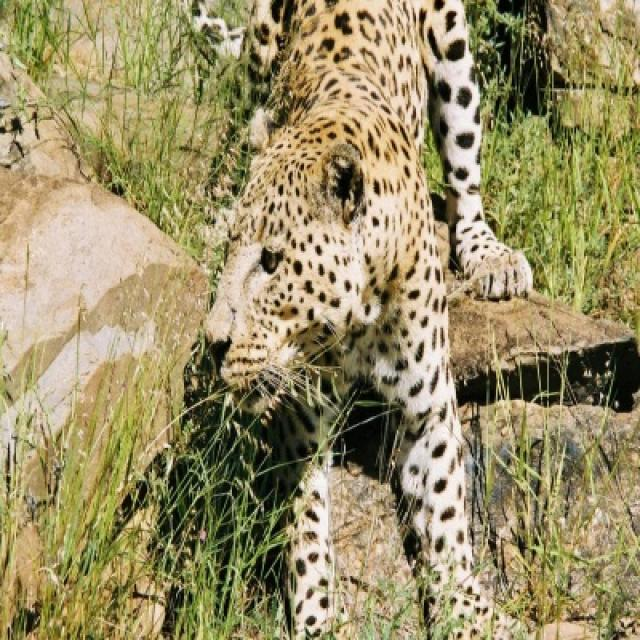Cheetah: (184, 0, 533, 638)
